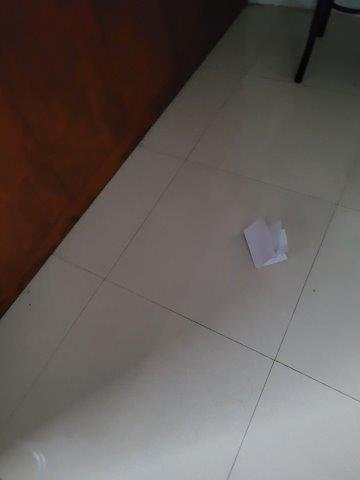kertas: (244, 220, 291, 268)
